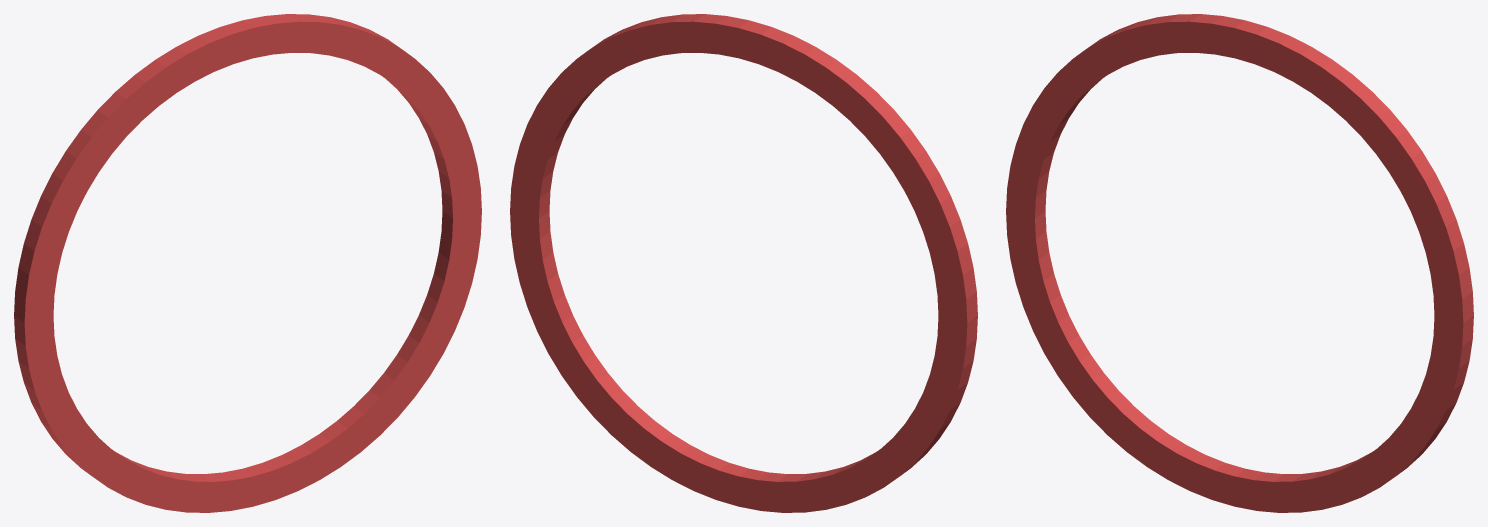
Rendered from ring_25.glb.
The picture shows the model from 3 angles, left to right: view 1: azimuth 30°, elevation 25°; view 2: azimuth 150°, elevation 25°; view 3: azimuth 330°, elevation 25°; orthographic projection.
Parts seen in each view (by area): view 1: world; view 2: world; view 3: world.
Boxes of the visible parts, box(x1,y1,x2,y2) form: world: box(14, 14, 481, 512); world: box(510, 14, 977, 512); world: box(1006, 14, 1473, 512).
Size of the model in its own units: 0.087 by 0.087 by 0.0035.
